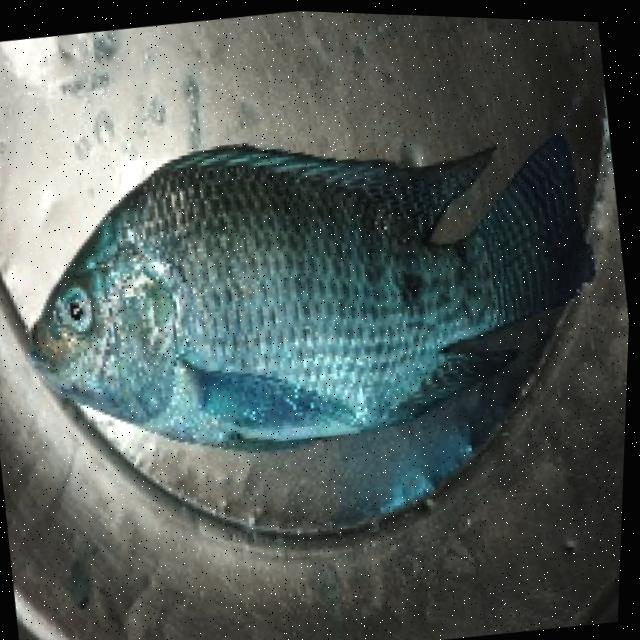Fresh: (0, 95, 637, 538)
